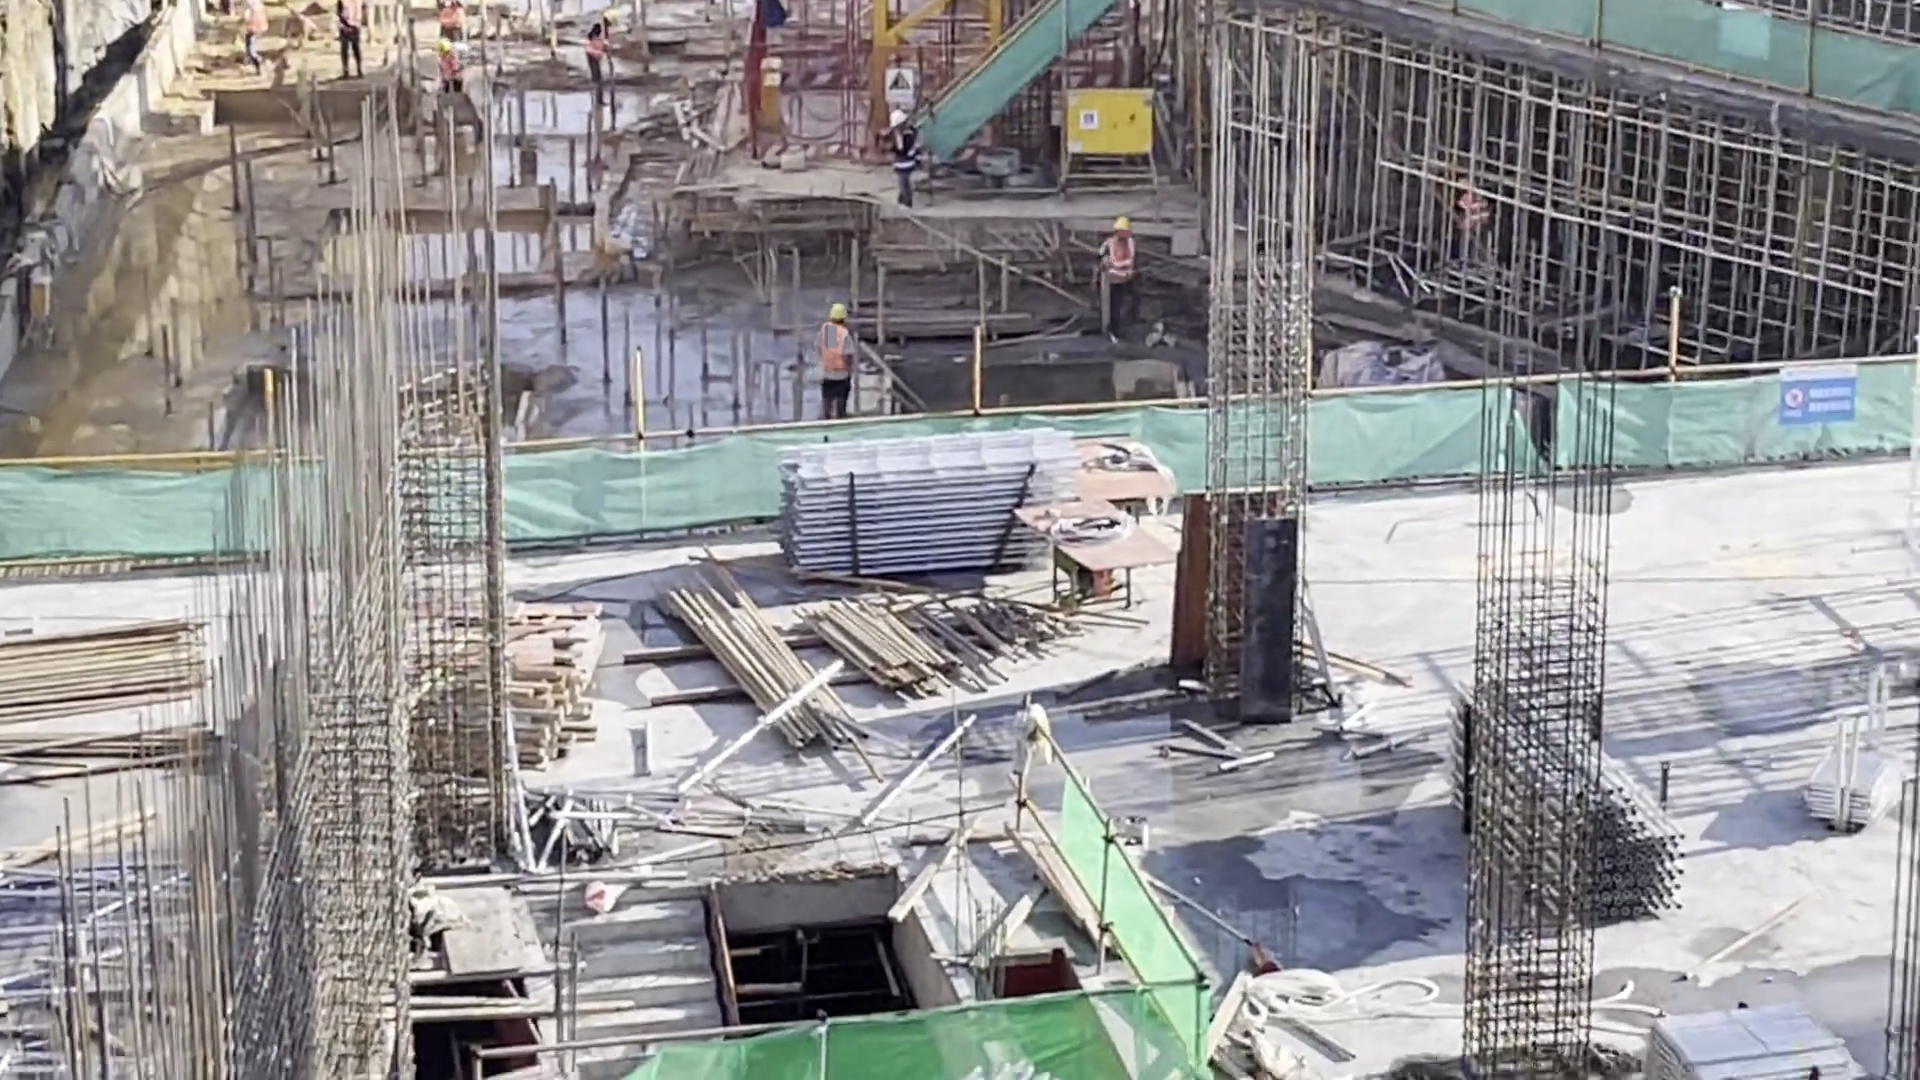cutter: (1042, 508, 1142, 600), (1077, 435, 1161, 492)
ebox: (1051, 86, 1156, 161)
helmet: (885, 109, 910, 126), (827, 304, 846, 319), (1115, 216, 1131, 234), (436, 40, 450, 53), (603, 11, 613, 22)
person: (1097, 215, 1141, 346), (817, 304, 863, 424), (1451, 176, 1495, 267), (892, 106, 926, 211), (329, 1, 371, 82), (583, 10, 619, 106), (236, 1, 277, 75), (430, 31, 471, 100), (427, 9, 476, 51)
scaffold: (1476, 692, 1655, 920), (835, 467, 1103, 587), (1656, 996, 1809, 1080), (1796, 744, 1897, 841)
slogan: (1783, 371, 1852, 431), (879, 75, 915, 99)
vest: (815, 325, 845, 375), (1103, 239, 1131, 282), (582, 21, 607, 60), (238, 1, 264, 35), (1458, 194, 1488, 222), (895, 134, 917, 172), (341, 1, 363, 30), (441, 56, 462, 80)
wood: (459, 604, 613, 783), (1, 621, 192, 710)
